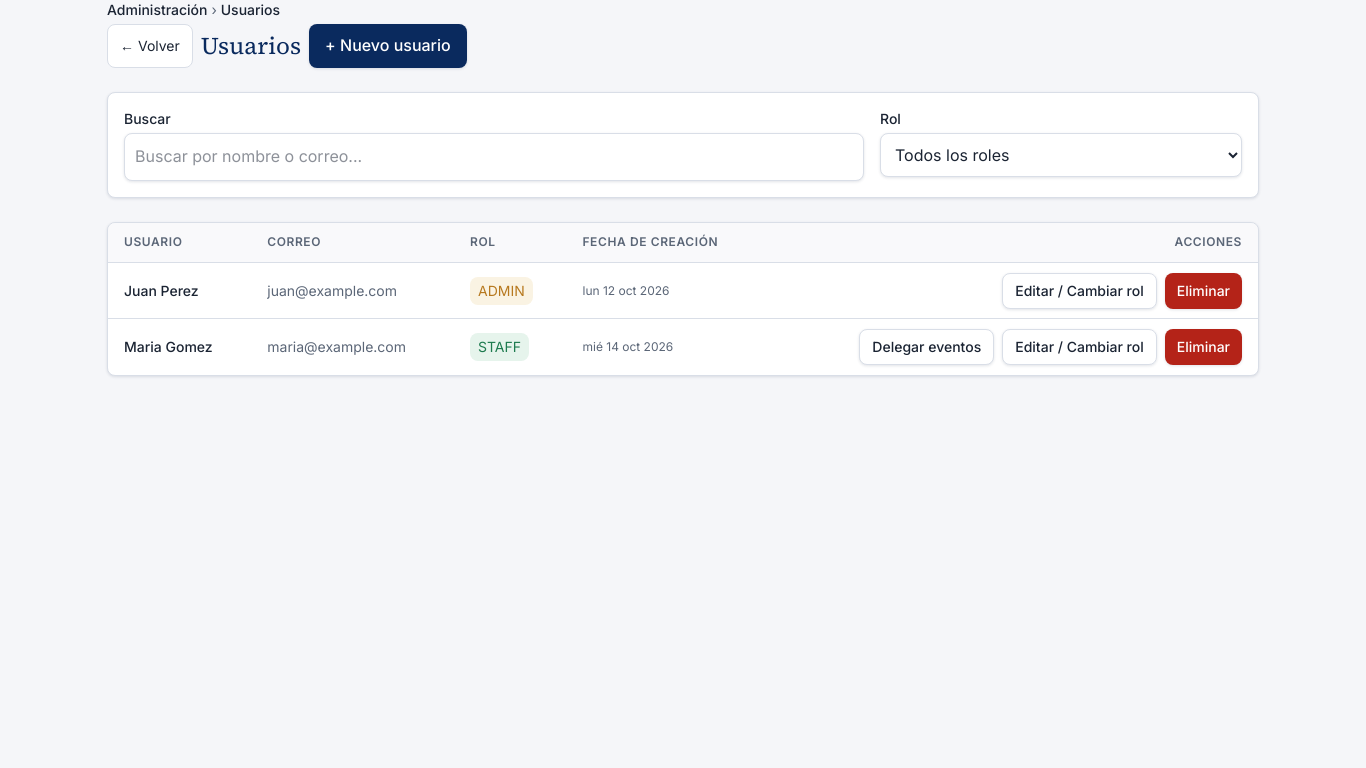
Test case: UsuariosPage & Button institutional redesign and regression guards › renders PageHeader, breadcrumbs, search/filter card, table and mobile cards
Check: the text "Administración" is shown, box [107, 1, 208, 18]
Check: the button "← Volver" is shown, box [107, 24, 193, 68]
# Clicking Eliminar opens single ConfirmDialog
Click the button "Eliminar" in the row of "Juan Perez": point(1203, 291) [1165, 273, 1242, 309]
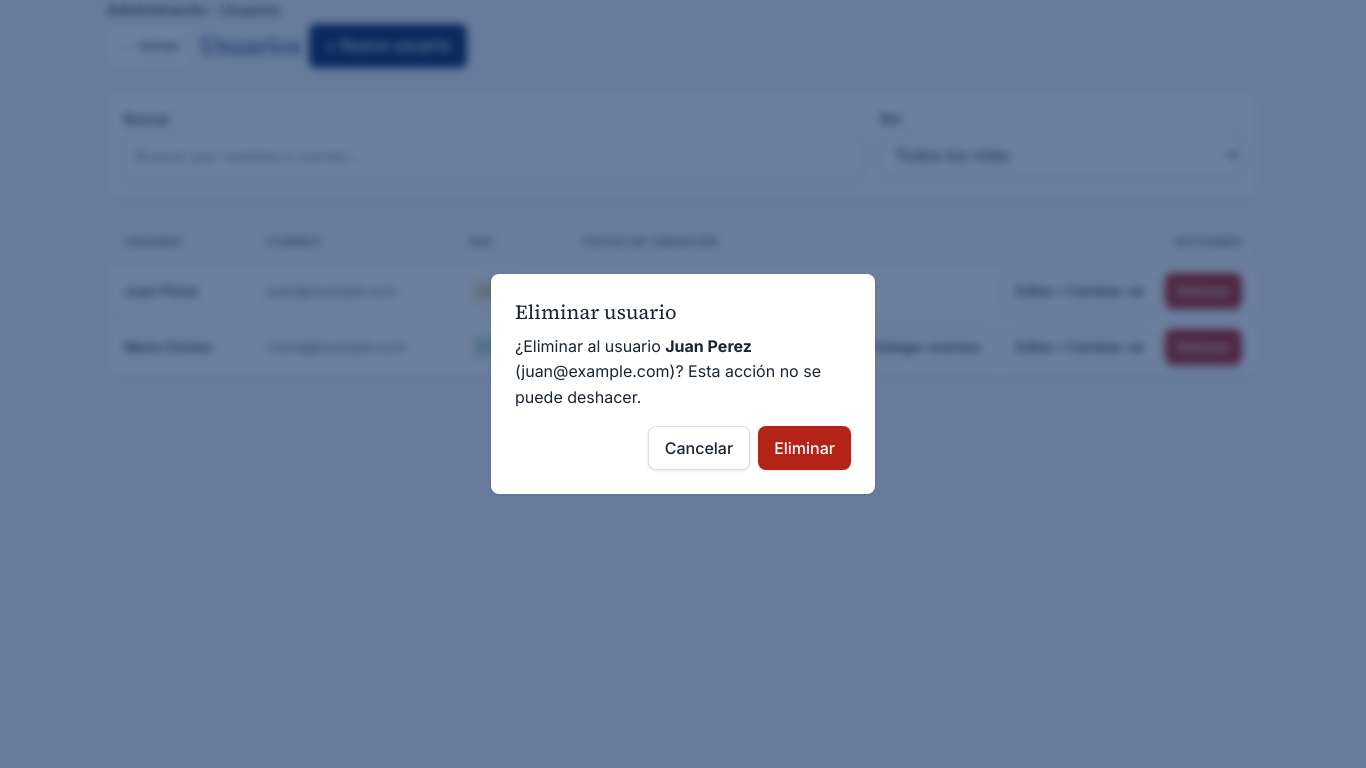
Check: the number of dialogs is 1
Check: the text "¿Eliminar al usuario" is shown, box [515, 336, 665, 356]
# Clicking Cancelar closes ConfirmDialog
Click the button "Cancelar": point(699, 448) [648, 426, 750, 470]
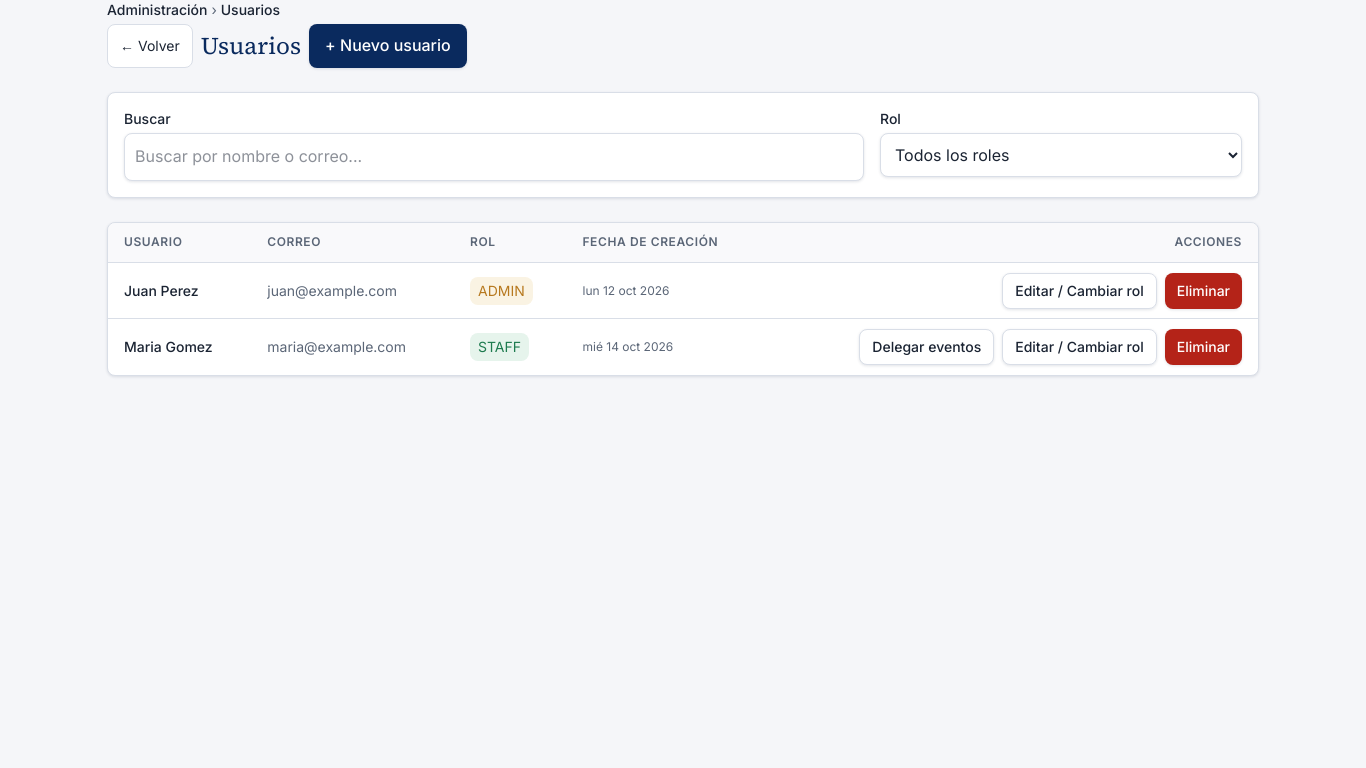
Check: no dialogs are shown
